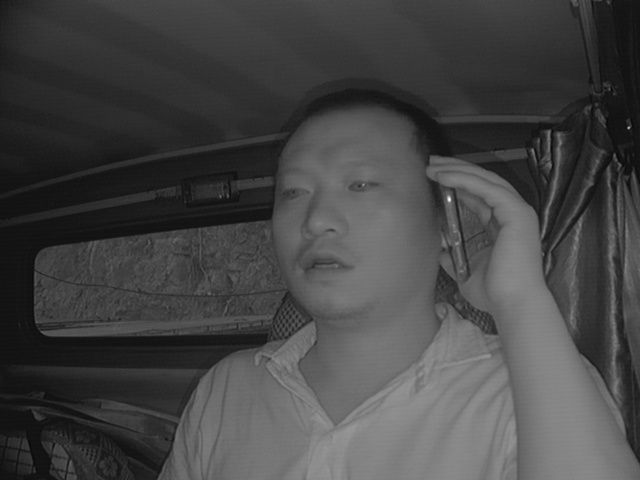hand: (417, 148, 543, 328)
